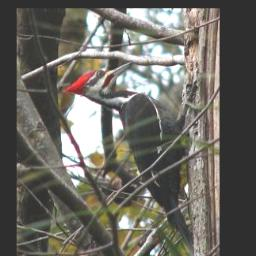Woodpecker: (63, 60, 202, 253)
